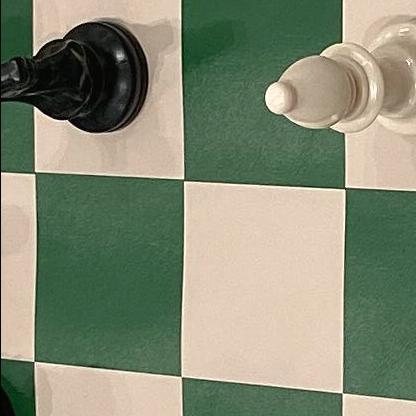black-knight: (0, 3, 154, 160)
white-bishop: (255, 1, 416, 153)
